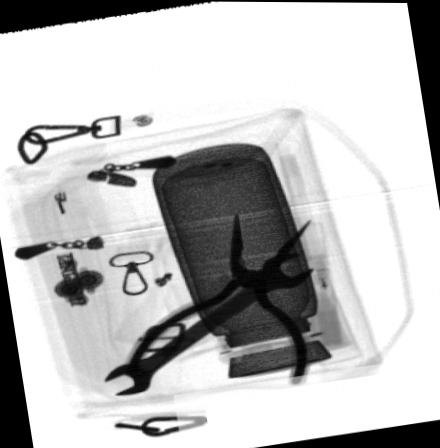Pliers: (121, 211, 311, 386)
Wrench: (104, 254, 315, 397)
